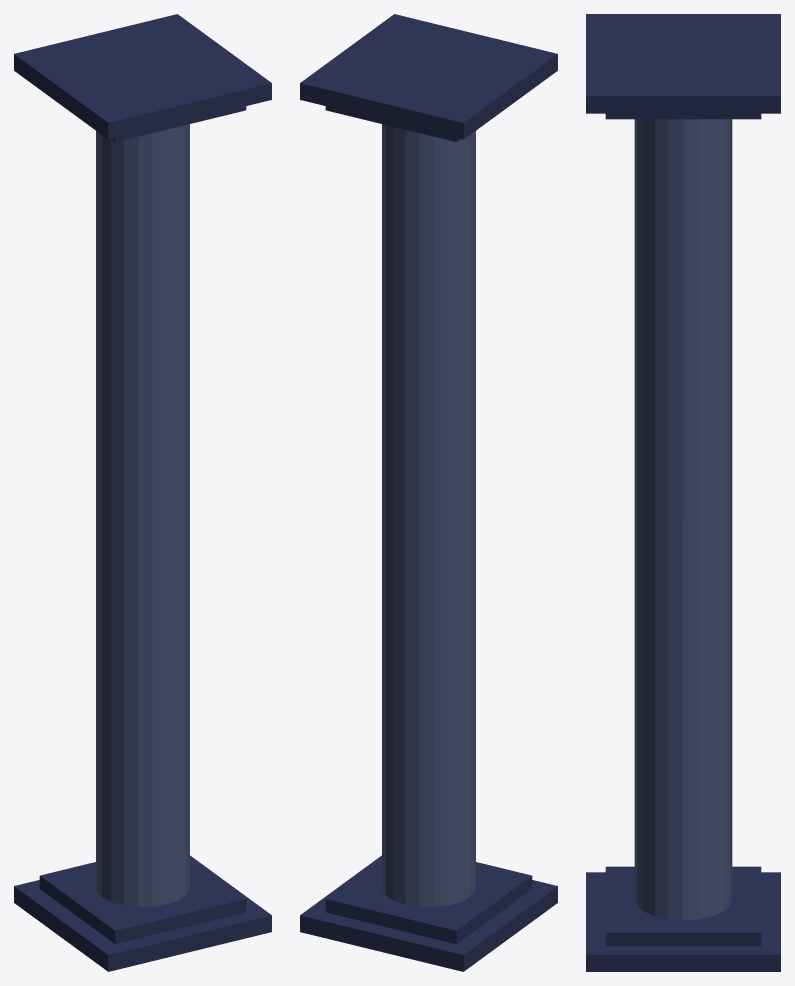
File: Pillar.fbx
3 views of the same model, side by side, from view 1: azimuth 30°, elevation 25°; view 2: azimuth 150°, elevation 25°; view 3: azimuth 270°, elevation 25° (orthographic). The views are drawn at different scales.
Parts seen in each view (by area): view 1: obj_0.026; view 2: obj_0.026; view 3: obj_0.026.
Boxes of the visible parts, left/top/right/bottom form: obj_0.026: left=14, top=14, right=271, bottom=971; obj_0.026: left=300, top=14, right=557, bottom=971; obj_0.026: left=586, top=14, right=780, bottom=971.
Size of the model in its own units: 2000 by 9922 by 2000.
